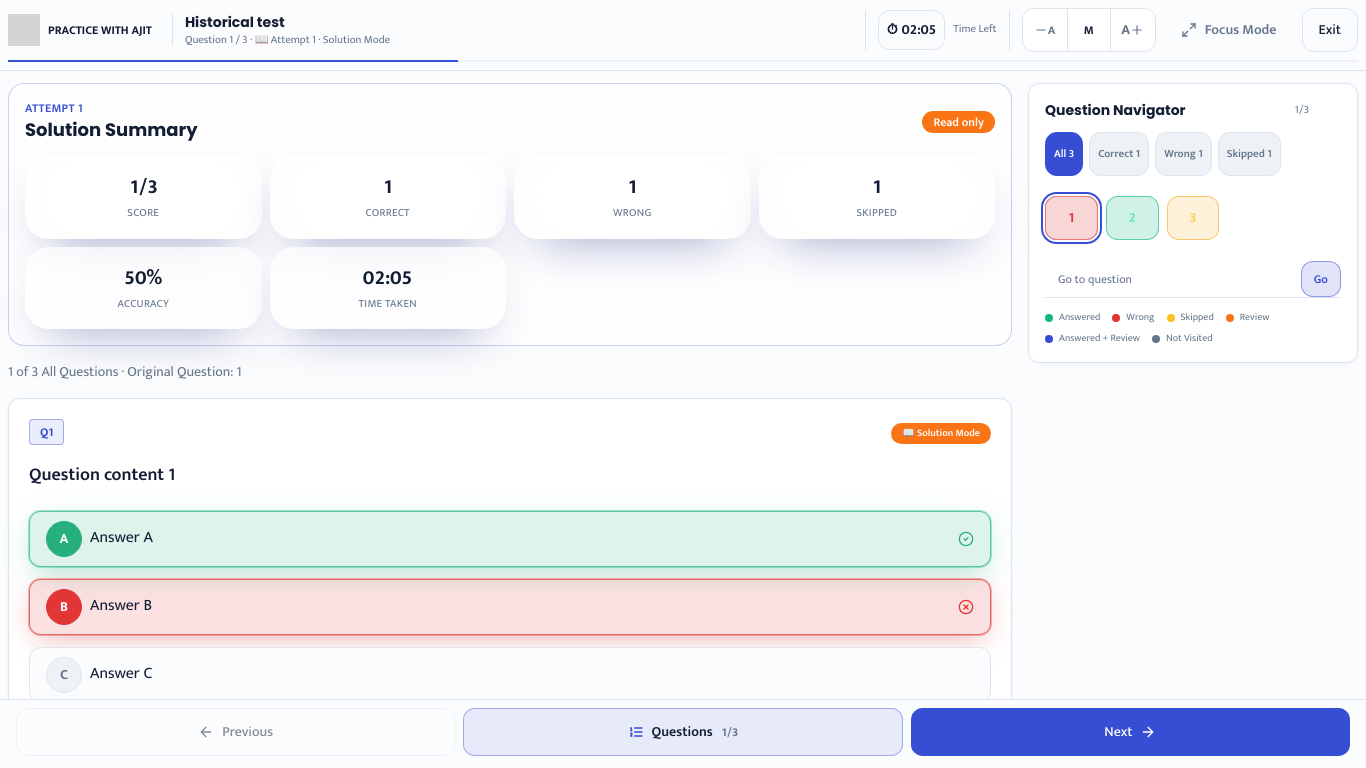
Test: Solution Mode navigation › opens only the selected completed attempt with stored stats and no database writes
The image size is (1366, 768).
expect the text "Attempt 1" is shown: met, box [25,98,83,118]
expect the text "1/3" below "Solution Summary" is shown: met, box [128,170,158,204]
Step 1. Click the button "Correct 1" → click(1119, 154), box [1089,132,1149,176]
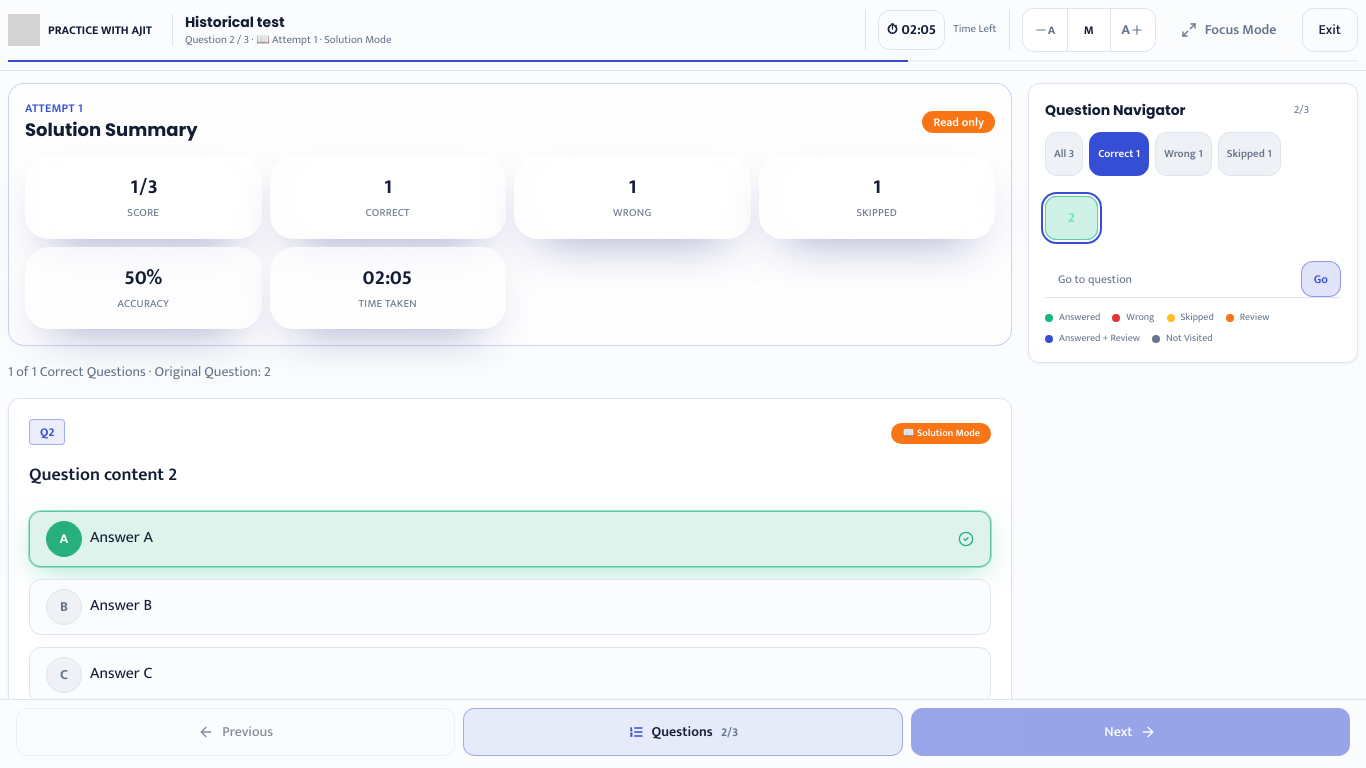
expect the text "Question content 2" is shown: met, box [29,460,177,490]
Step 2. Click the button "Skipped 1" → click(1249, 154), box [1218,132,1281,176]
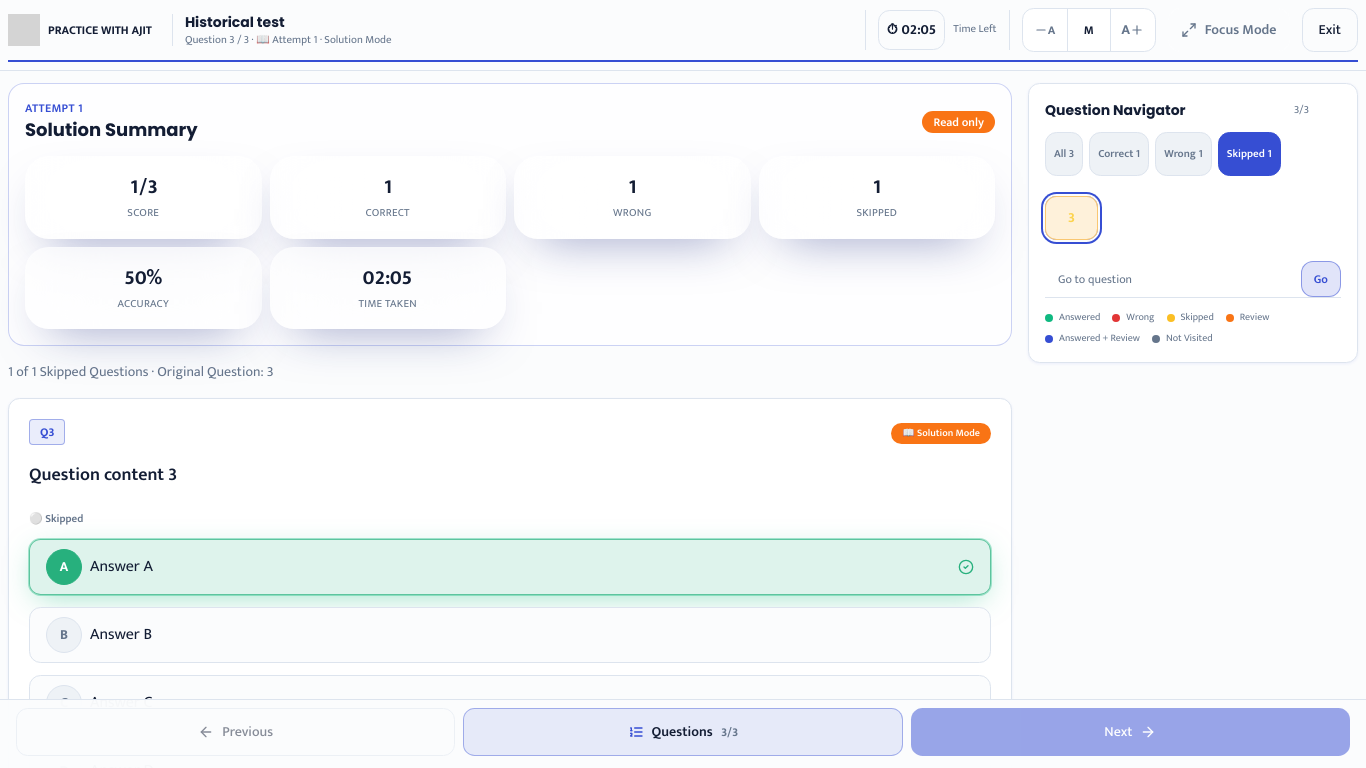
expect the text "Question content 3" is shown: met, box [29,460,177,490]
expect the text "⚪ Skipped" is shown: met, box [29,510,83,528]
Step 3. Click the button "Wrong 1" → click(1183, 154), box [1155,132,1212,176]
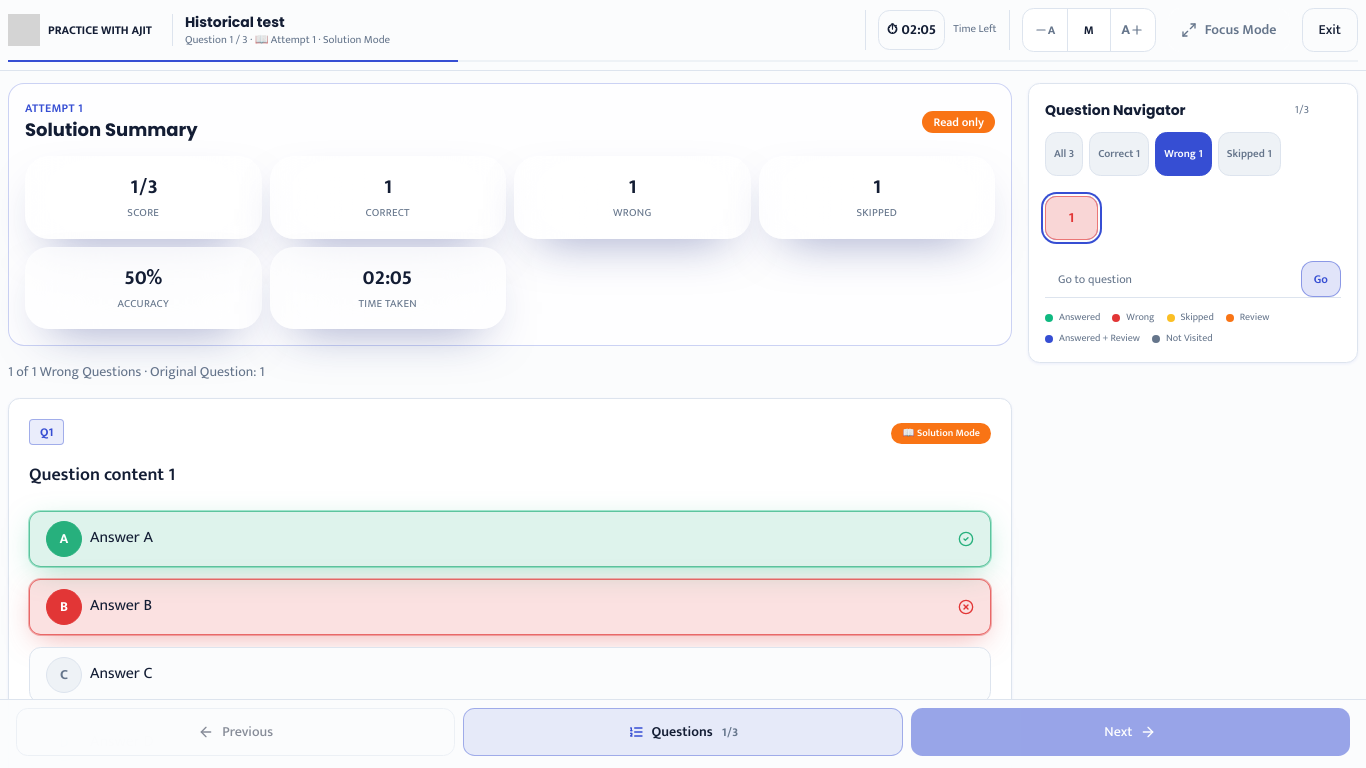
expect the text "Question content 1" is shown: met, box [29,460,175,490]
